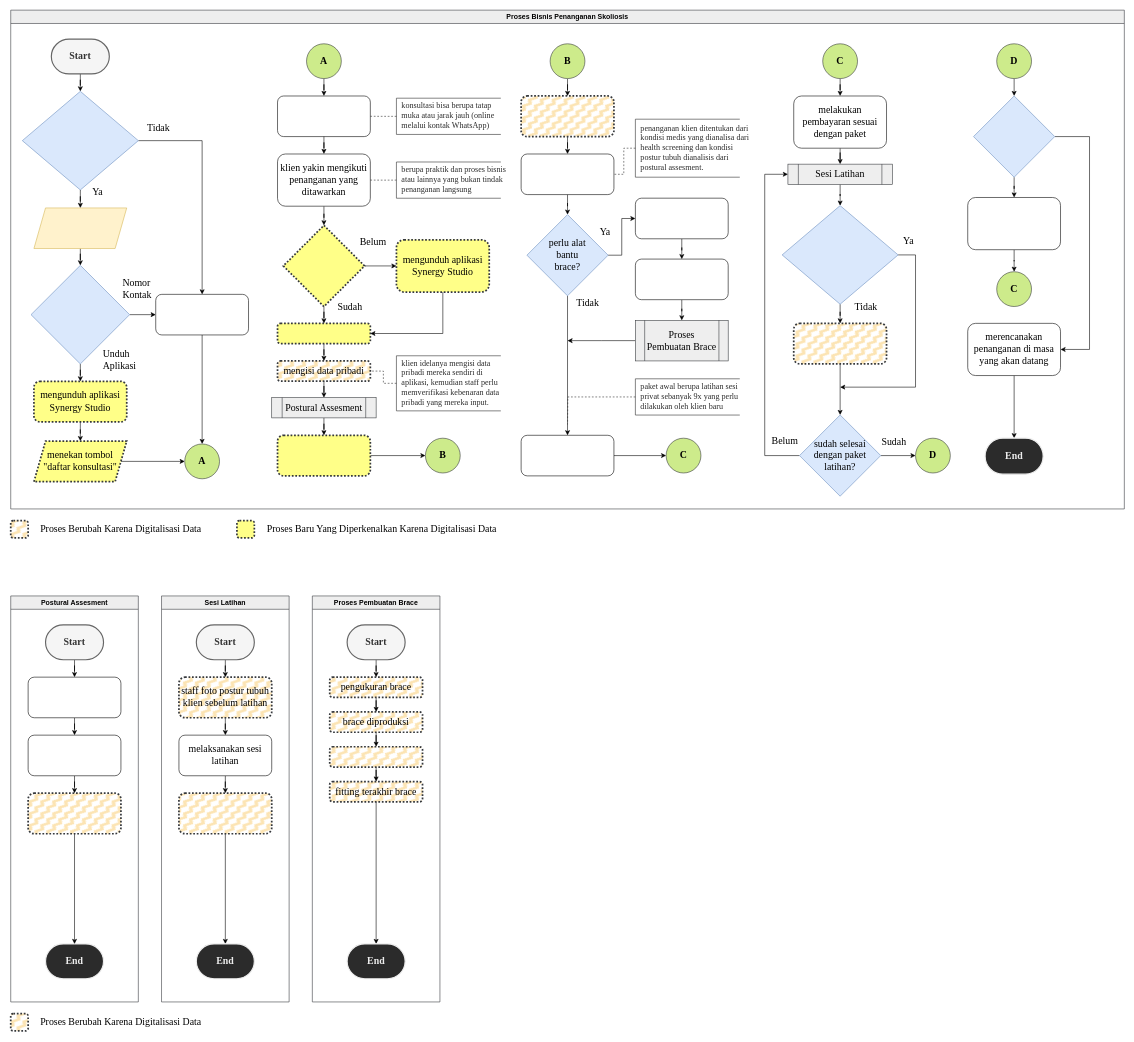
This 1134x1042 diagram has some shape labels left out. Here are the shapes that lost their labels. From the top down, the box of each, then its label:
(277, 95, 370, 137): melakukan konsultasi penaganan skoliosis
(520, 95, 615, 137): melakukan health screening
(973, 95, 1055, 177): merasa cukup dengan kondisi saat ini?
(22, 91, 138, 190): menemukan Synergy CST sebagai penanganan skoliosis dari jejak digital?
(521, 153, 614, 195): menentukan tindakan penanganan skoliosis
(33, 207, 127, 249): konten digital Synergy CST
(635, 198, 728, 239): menentukan kebutuhan brace
(967, 197, 1061, 250): menentukan paket latihan dengan penawaran bisnis yang berlaku
(282, 224, 365, 307): sudah mengunduh aplikasi?
(782, 205, 898, 304): memakai alat bantu brace dan berlalu 3 bulan sejak postural assesment terakhir?
(635, 259, 728, 300): melakukan pembayaran brace
(30, 265, 130, 364): CTA diambil dari bentuk unduh aplikasi atau kontak konsultasi?
(155, 294, 249, 335): mendapatkan kontak Synergy CST
(276, 322, 371, 344): mendaftarkan akun
(793, 322, 887, 365): melakukan penyesuaian brace
(276, 434, 371, 476): memverifikasi data pribadi klien
(521, 435, 614, 476): membeli paket awal penangan skoliosis
(28, 677, 121, 718): melakukan x-ray postur tubuh
(28, 735, 121, 776): datang ke Synergy CST
(329, 746, 423, 768): fitting pertama brace
(27, 792, 122, 834): staff melakukan postural assesment
(178, 792, 272, 834): staff foto postur tubuh klien sesudah latihan
